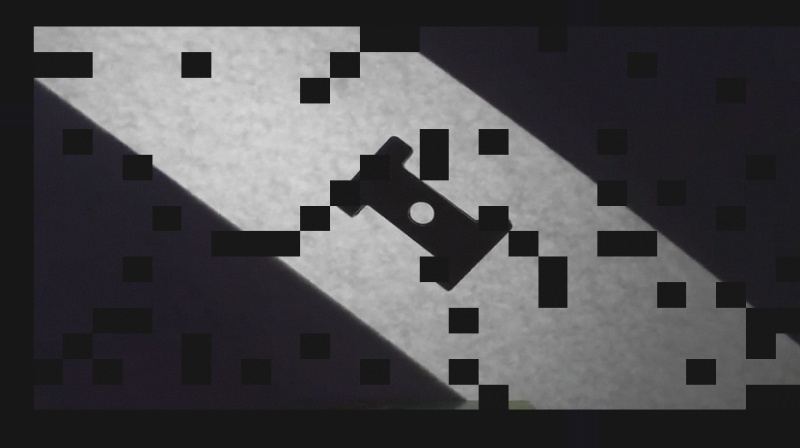O002: (331, 131, 515, 294)
